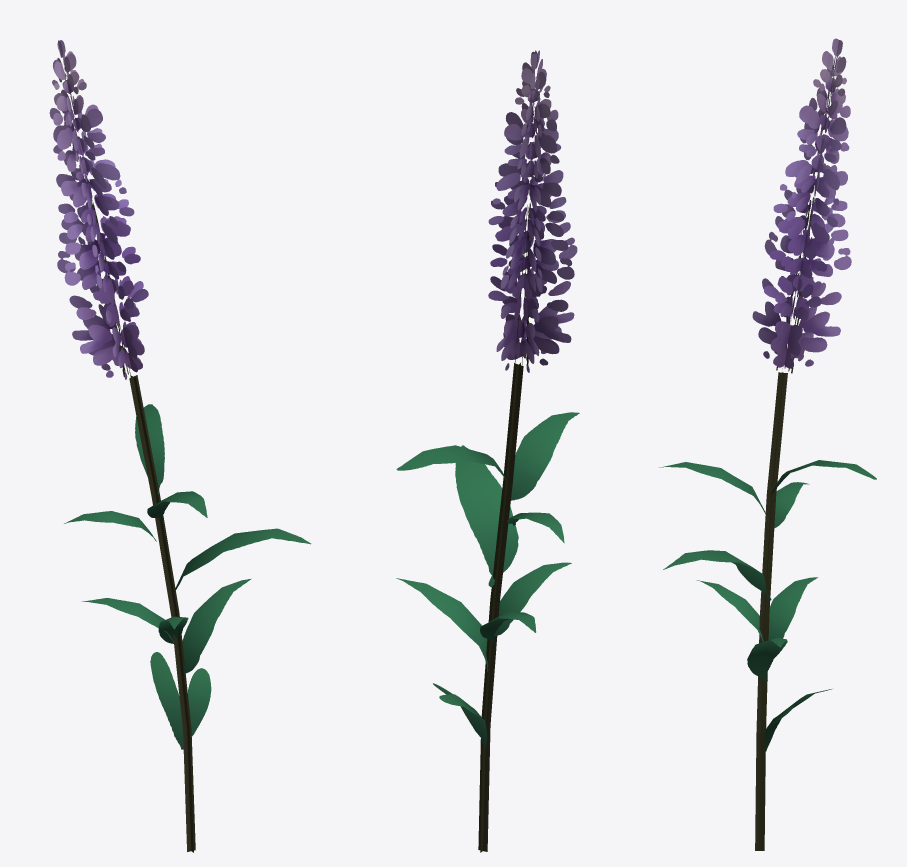
File: SM_Lavanda01.fbx
The picture shows the model from 3 angles, left to right: view 1: azimuth 30°, elevation 25°; view 2: azimuth 150°, elevation 25°; view 3: azimuth 270°, elevation 25°; orthographic projection. The views are drawn at different scales.
Visible parts, largest first — view 1: Plane; view 2: Plane; view 3: Plane.
Part boxes in pixels (left/top/right/bottom): Plane: left=49, top=40, right=311, bottom=852; Plane: left=396, top=50, right=579, bottom=852; Plane: left=659, top=38, right=876, bottom=850.
Bounding box in the file's own units: 40.97 × 139 × 41.35.
Materials: 1 (1 with a texture image).
